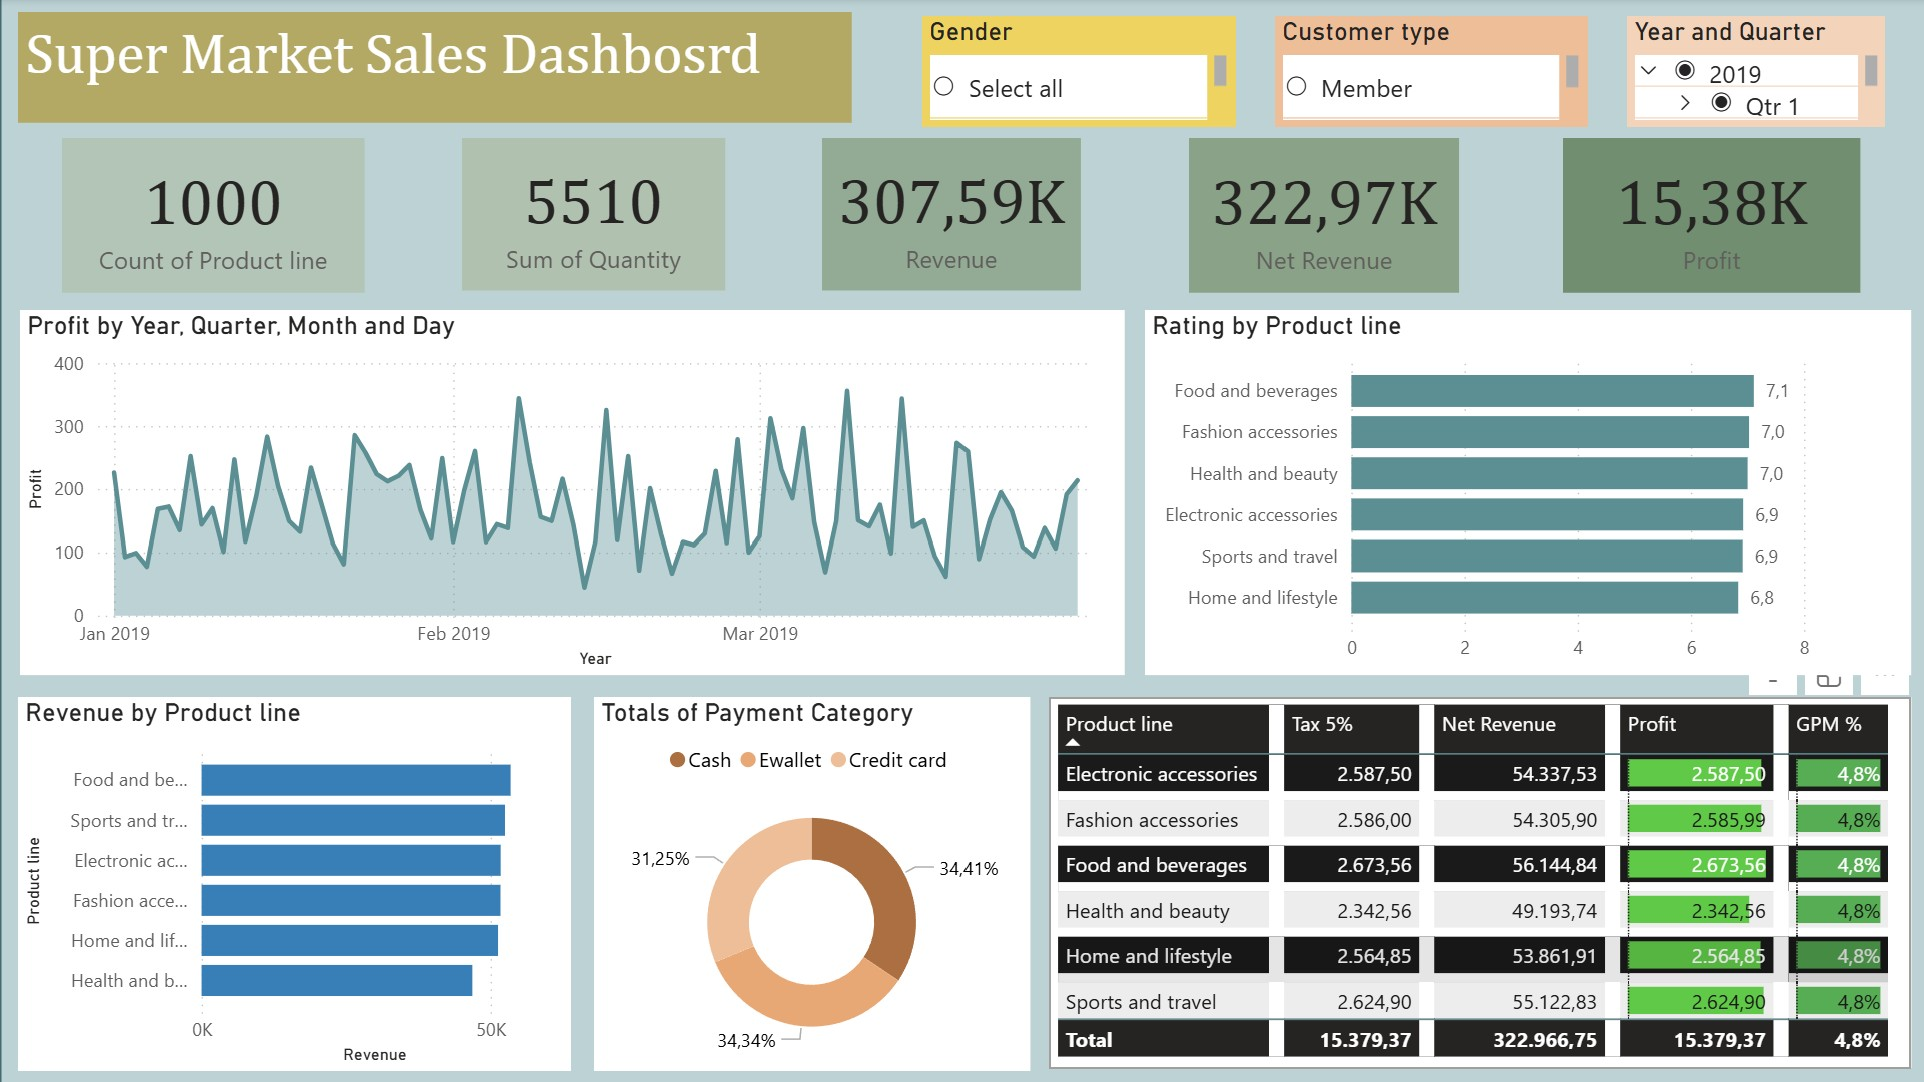

The dashboard page shown, as its layout file describes it:
{"tool":"powerbi","page":{"name":"Page 1","canvas":[1280,720],"ordinal":0},"visuals":[{"type":"shape","box":[9.7,0,1270.3,719.4],"z":0},{"type":"tableEx","fields":{"Values":["supermarket_sales.Product line","supermarket_sales.Tax 5%","supermarket_sales.Net Revenue","supermarket_sales.Profit","supermarket_sales.GPM %"]},"box":[699.9,460.2,568.7,244.7],"z":1000},{"type":"donutChart","title":"Totals of Payment Category","fields":{"Category":["supermarket_sales.Payment"],"Y":["Sum(supermarket_sales.Quantity)"]},"box":[400.2,460.2,286.8,246.3],"z":2000},{"type":"barChart","fields":{"Category":["supermarket_sales.Product line"],"Y":["supermarket_sales.Revenue"]},"box":[21.1,460.2,364.6,246.3],"z":3000},{"type":"areaChart","fields":{"Category":["supermarket_sales.Date.Variation.Date Hierarchy.Year","supermarket_sales.Date.Variation.Date Hierarchy.Quarter","supermarket_sales.Date.Variation.Date Hierarchy.Month","supermarket_sales.Date.Variation.Date Hierarchy.Day"],"Y":["supermarket_sales.Profit"]},"box":[22.7,205.8,727.5,239.8],"z":4000},{"type":"clusteredBarChart","title":"Rating by Product line","fields":{"Category":["supermarket_sales.Product line"],"Y":["Avg(supermarket_sales.Rating)"]},"box":[763.3,205.6,504.9,239.9],"z":5000},{"type":"card","fields":{"Values":["CountNonNull(supermarket_sales.Product line)"]},"box":[50.2,92.4,199.3,102.1],"z":6000},{"type":"card","fields":{"Values":["Sum(supermarket_sales.Quantity)"]},"box":[314.3,92.4,173.4,100.5],"z":7000},{"type":"card","fields":{"Values":["supermarket_sales.Revenue"]},"box":[550.9,92.4,170.1,100.5],"z":8000},{"type":"card","fields":{"Values":["supermarket_sales.Net Revenue"]},"box":[792.3,92.4,178.2,102.1],"z":9000},{"type":"card","fields":{"Values":["supermarket_sales.Profit"]},"box":[1038.6,92.4,196.1,102.1],"z":10000},{"type":"listSlicer","fields":{"Values":["supermarket_sales.Date.Variation.Date Hierarchy.Year","supermarket_sales.Date.Variation.Date Hierarchy.Quarter","supermarket_sales.Date.Variation.Date Hierarchy.Month","supermarket_sales.Date.Variation.Date Hierarchy.Day"]},"box":[1080.7,11.3,170.1,72.9],"z":11000},{"type":"listSlicer","fields":{"Values":["supermarket_sales.Customer type"]},"box":[849,11.3,205.8,72.9],"z":12000},{"type":"listSlicer","fields":{"Values":["supermarket_sales.Gender"]},"box":[617.3,11.3,205.8,72.9],"z":13000},{"type":"textbox","box":[21.1,9.7,549.3,72.9],"z":14000}]}

Visuals, with their boxes in screenshot pixels (x1, y1, x2, y2), scaled from the page's 1280x720 canvas onto the 1924x1082 screenshot:
shape: <box>15,0,1923,1081</box>
tableEx - supermarket_sales.Product line x supermarket_sales.Tax 5%: <box>1052,692,1907,1059</box>
"Totals of Payment Category" donutChart: <box>602,692,1033,1062</box>
barChart - supermarket_sales.Product line x supermarket_sales.Revenue: <box>32,692,580,1062</box>
areaChart - supermarket_sales.Date.Variation.Date Hierarchy.Year x supermarket_sales.Date.Variation.Date Hierarchy.Quarter: <box>34,309,1128,670</box>
"Rating by Product line" clusteredBarChart: <box>1147,309,1906,669</box>
card - CountNonNull(supermarket_sales.Product line): <box>75,139,375,292</box>
card - Sum(supermarket_sales.Quantity): <box>472,139,733,290</box>
card - supermarket_sales.Revenue: <box>828,139,1084,290</box>
card - supermarket_sales.Net Revenue: <box>1191,139,1459,292</box>
card - supermarket_sales.Profit: <box>1561,139,1856,292</box>
listSlicer - supermarket_sales.Date.Variation.Date Hierarchy.Year x supermarket_sales.Date.Variation.Date Hierarchy.Quarter: <box>1624,17,1880,127</box>
listSlicer - supermarket_sales.Customer type: <box>1276,17,1585,127</box>
listSlicer - supermarket_sales.Gender: <box>928,17,1237,127</box>
textbox: <box>32,15,857,124</box>
